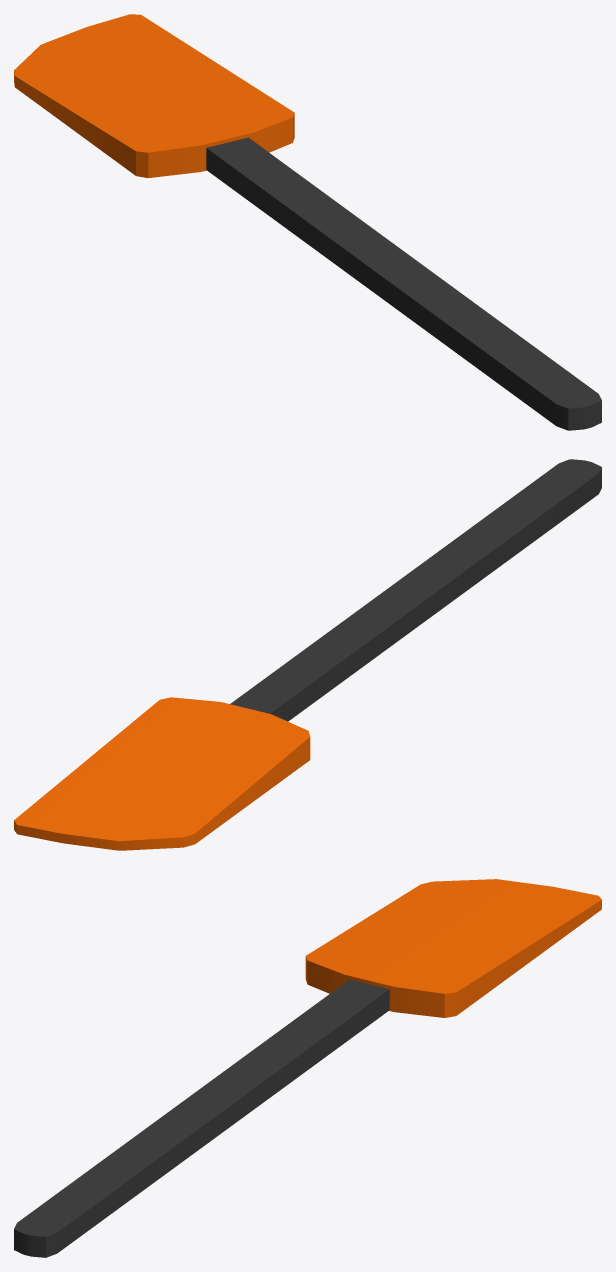
File: Rubber_Spatula_8.FBX
The picture shows the model from 3 angles, top to bottom: view 1: azimuth 30°, elevation 25°; view 2: azimuth 150°, elevation 25°; view 3: azimuth 330°, elevation 25°; orthographic projection. The views are drawn at different scales.
Parts seen in each view (by area): view 1: Rubber_Spatula; view 2: Rubber_Spatula; view 3: Rubber_Spatula.
Boxes of the visible parts, x1,y1,x2,y2 form: Rubber_Spatula: (14,14,601,430); Rubber_Spatula: (14,459,601,850); Rubber_Spatula: (14,879,601,1257).
Bounding box in the file's own units: 15 × 2.41 × 86.77.
